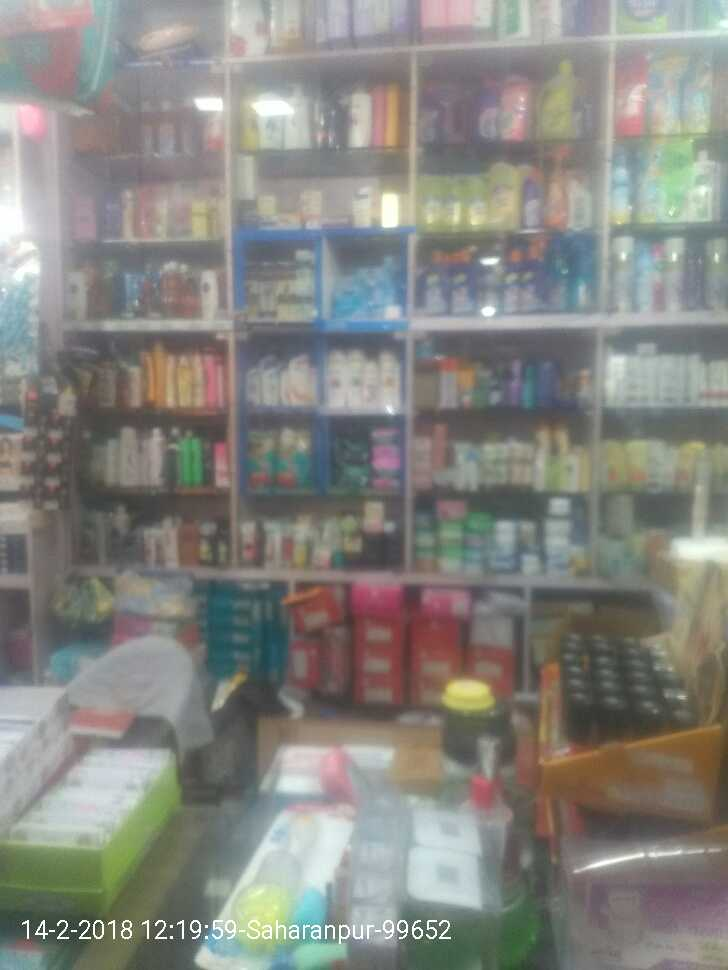venus: (358, 267, 389, 317), (333, 275, 358, 317)
